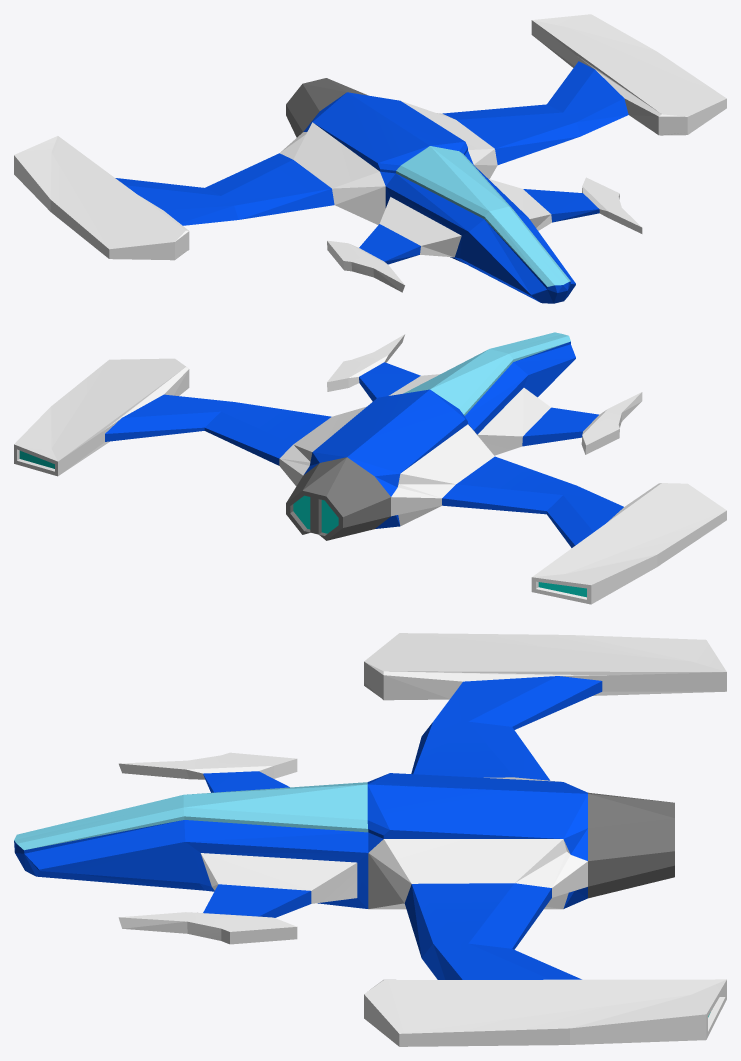
Rendered from Spaceship_2.fbx.
The picture shows the model from 3 angles, top to bottom: view 1: azimuth 30°, elevation 25°; view 2: azimuth 150°, elevation 25°; view 3: azimuth 270°, elevation 25°; orthographic projection. The views are drawn at different scales.
Visible parts, largest first — view 1: _7_1; view 2: _7_1; view 3: _7_1.
Part boxes in pixels (box(x1,y1,x2,y2)): _7_1: box(14, 14, 726, 303); _7_1: box(14, 332, 726, 604); _7_1: box(14, 633, 726, 1046).
Size of the model in its own units: 904 by 101 by 679.
